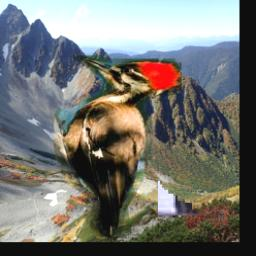Crow: (157, 26, 228, 215)
Woodpecker: (50, 56, 181, 239)
